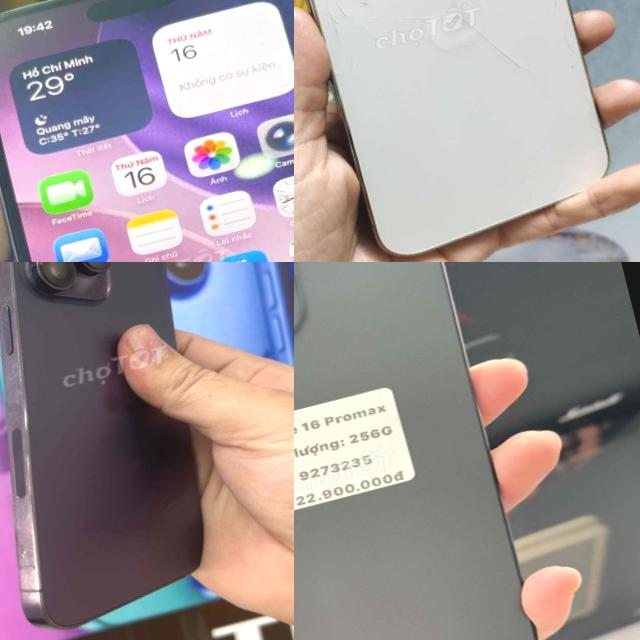gen_12_13: (294, 0, 640, 262)
gen_14: (0, 262, 264, 640)
gen_15: (0, 0, 294, 262)
gen_16: (294, 262, 536, 640)
